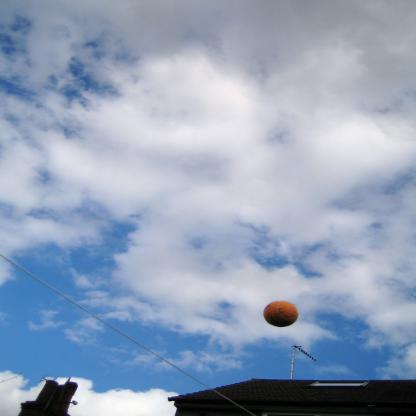Ball: (264, 301, 299, 326)
